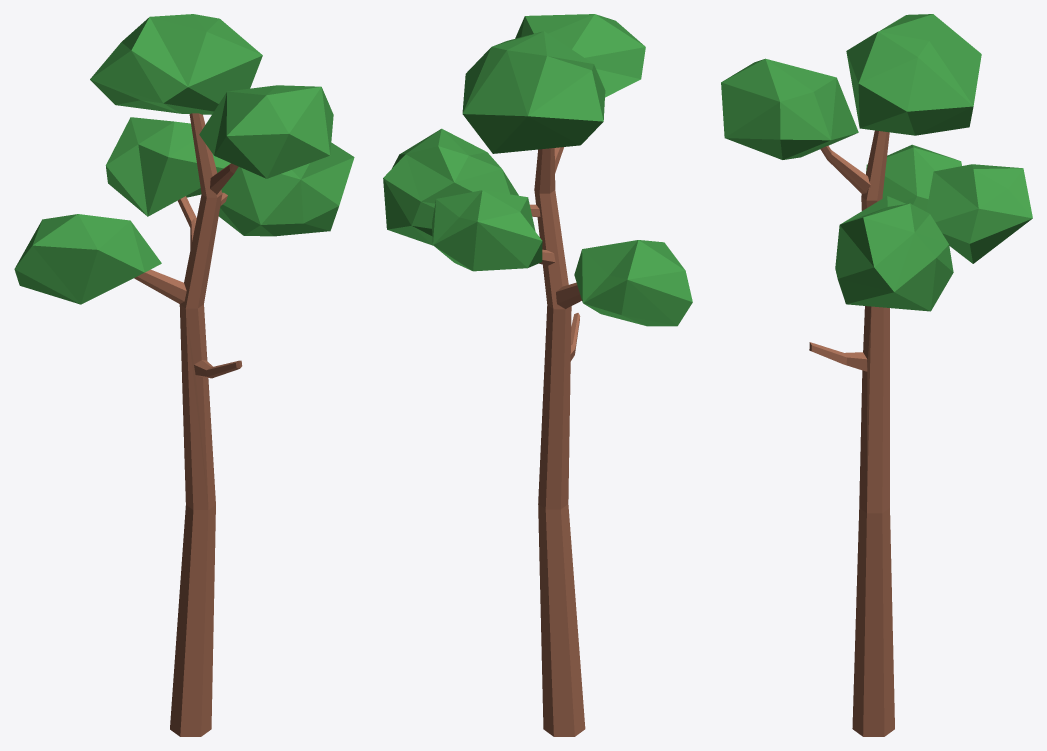
The model's file is simple_tree.obj.
The picture shows the model from 3 angles, left to right: view 1: azimuth 30°, elevation 25°; view 2: azimuth 150°, elevation 25°; view 3: azimuth 270°, elevation 25°; orthographic projection. The views are drawn at different scales.
Bounding box in the file's own units: 7.92 × 16.36 × 6.52.
